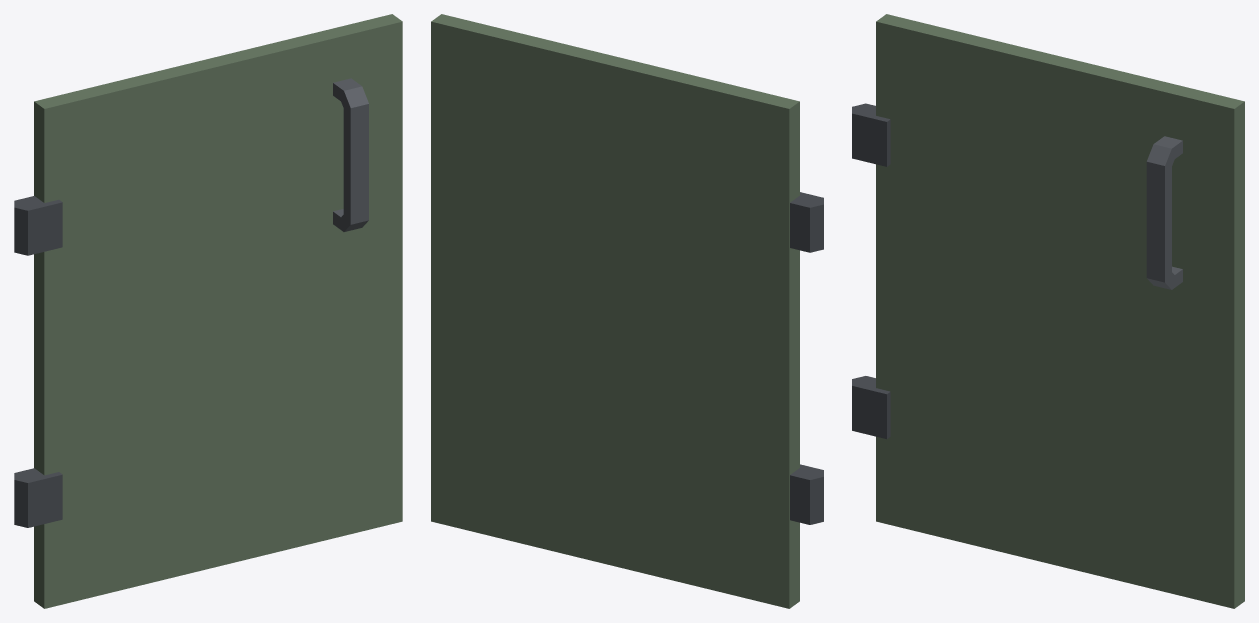
The model's file is SM_Prop_WorkBench_02_BigDrawer_l.fbx.
3 renders of one model, left to right at view 1: azimuth 30°, elevation 25°; view 2: azimuth 150°, elevation 25°; view 3: azimuth 330°, elevation 25°, orthographic.
Visible parts, largest first — view 1: SM_Prop_WorkBench_02_BigDrawer_l; view 2: SM_Prop_WorkBench_02_BigDrawer_l; view 3: SM_Prop_WorkBench_02_BigDrawer_l.
Boxes of the visible parts, x1,y1,x2,y2 form: SM_Prop_WorkBench_02_BigDrawer_l: (14,14,402,608); SM_Prop_WorkBench_02_BigDrawer_l: (431,14,823,608); SM_Prop_WorkBench_02_BigDrawer_l: (852,14,1244,608).
Size of the model in its own units: 66.38 by 82.27 by 8.43.
